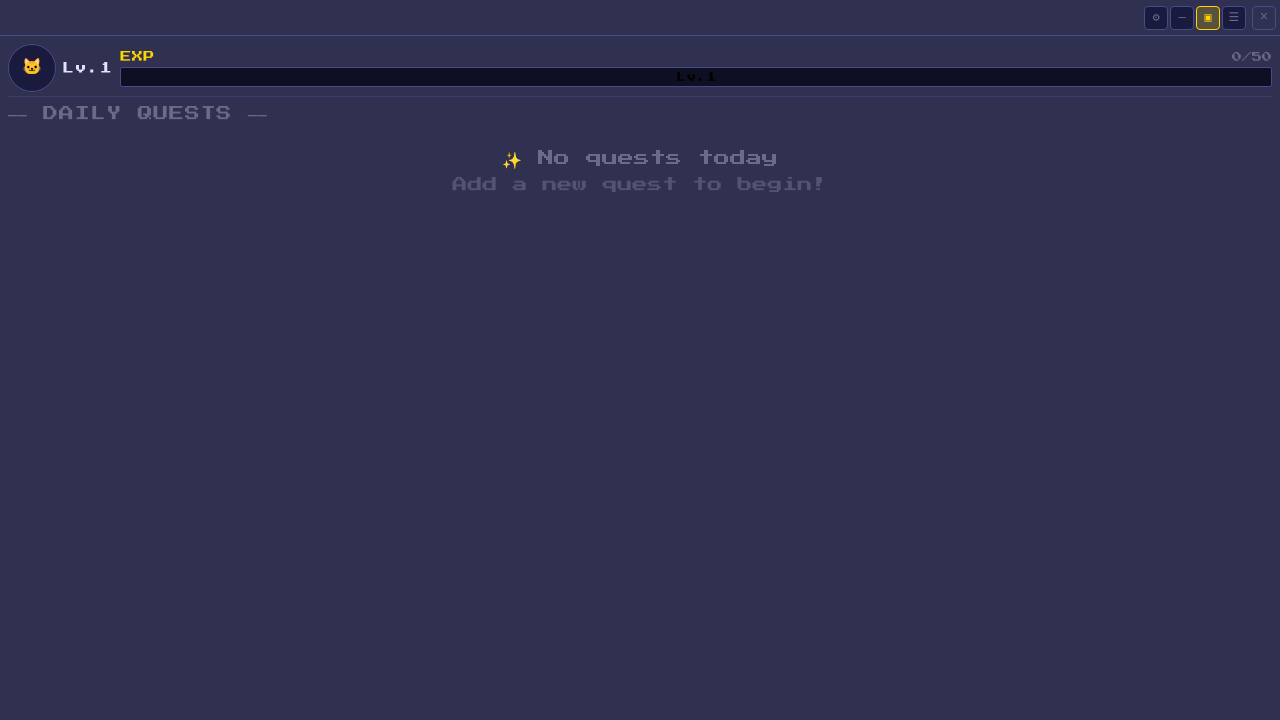
App › shows the settings panel when gear button is clicked
Click the button titled "Settings": (1156, 18) [1144,6,1168,30]
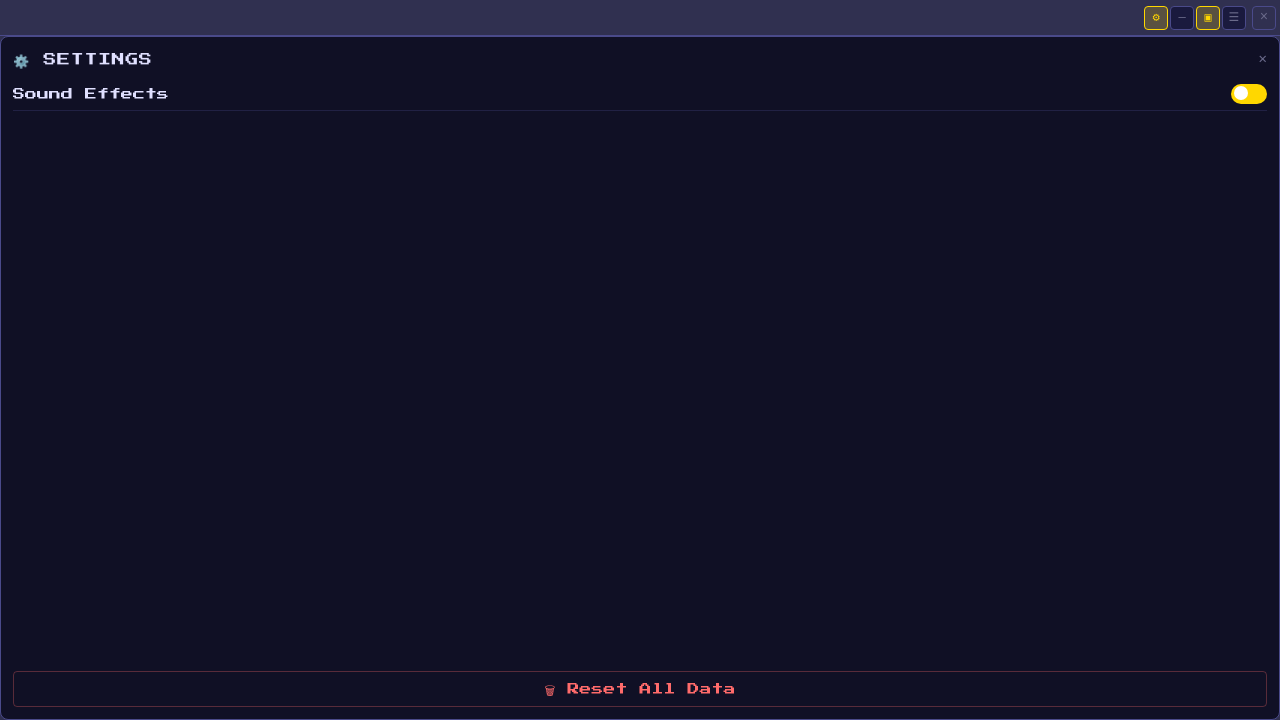
Expected: the text "⚙️ SETTINGS" is shown, [13,50,153,69]
Expected: the text "Sound Effects" is shown, [13,85,169,103]
